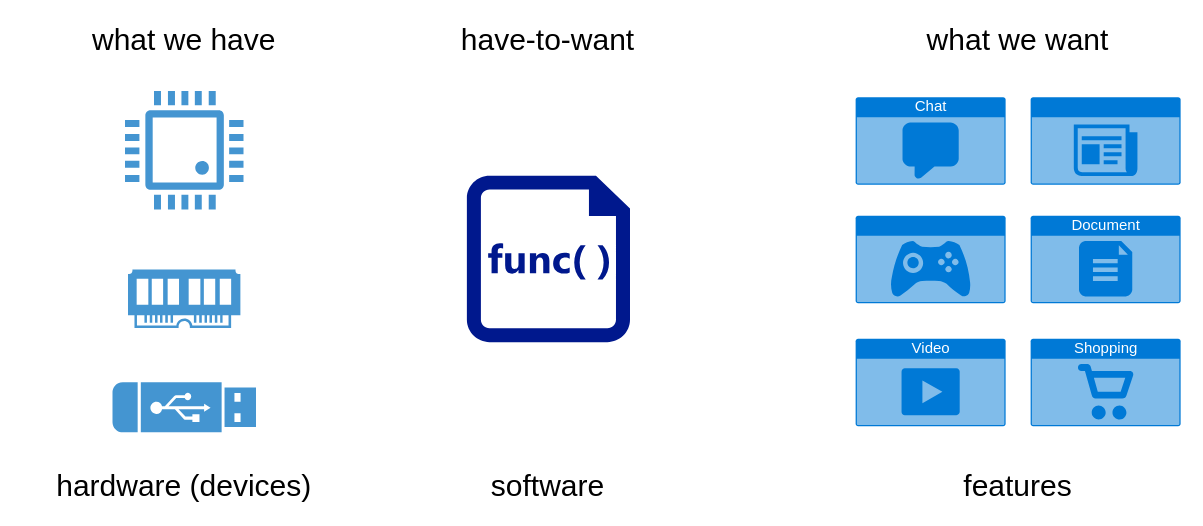
The diagram is 1203 pixels wide and 526 high, and some of its shapes have lost their labels. Each missing label, with the box of its shape:
Game: (855, 215, 1005, 302)
News: (1030, 96, 1180, 184)
